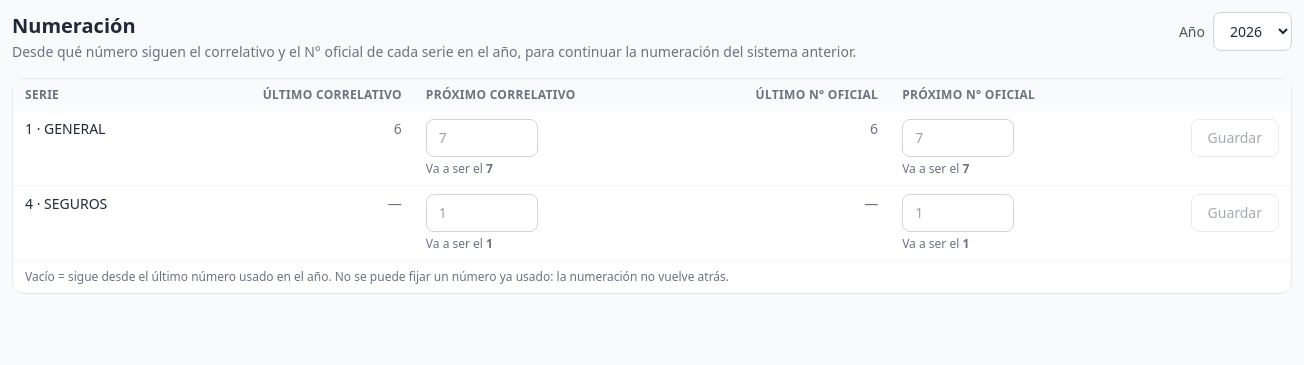
numeración de resoluciones › fija desde qué número sigue la serie
Type "1500" into the number field named "Próximo correlativo serie 1".
click(482, 138); type("1500")  # box [426, 119, 538, 157]
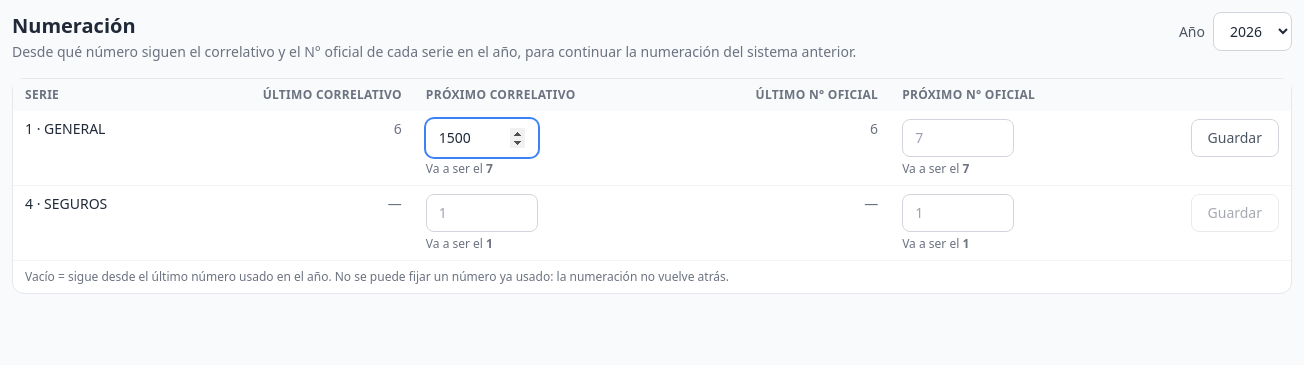
Type "870" into the number field named "Próximo N° oficial serie 1".
click(958, 138); type("870")  # box [902, 119, 1014, 157]
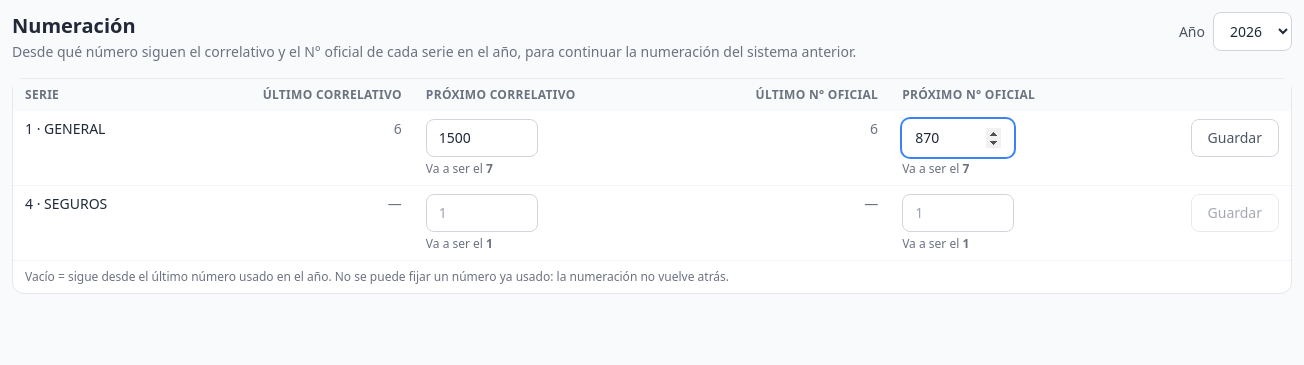
Click the button "Guardar" in the row of "GENERAL".
click(1235, 138)  # box [1190, 119, 1279, 157]
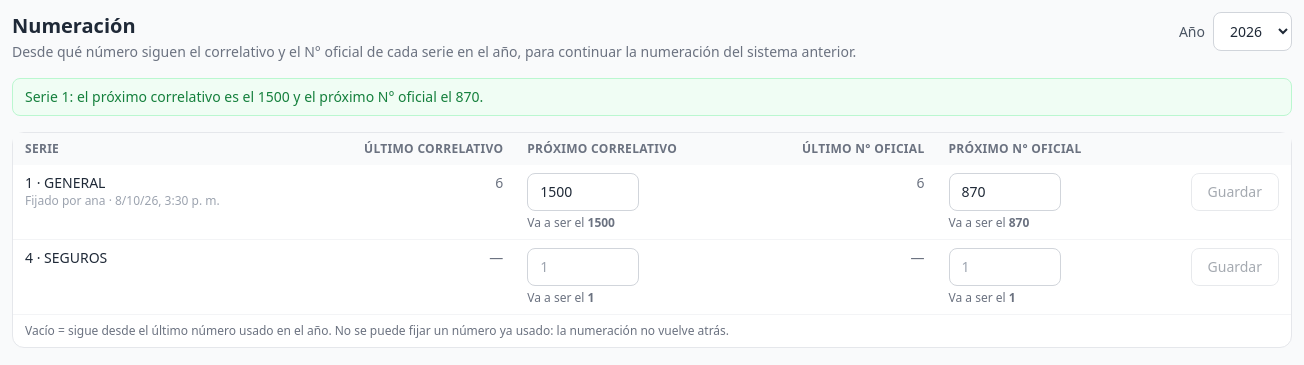
Check: the text "el próximo correlativo es el 1500 y el próximo N° oficial el 870" is shown, box [25, 87, 483, 106]
Check: the text "Fijado por ana · 8/10/26, 3:30 p. m." is shown, box [25, 192, 220, 209]
